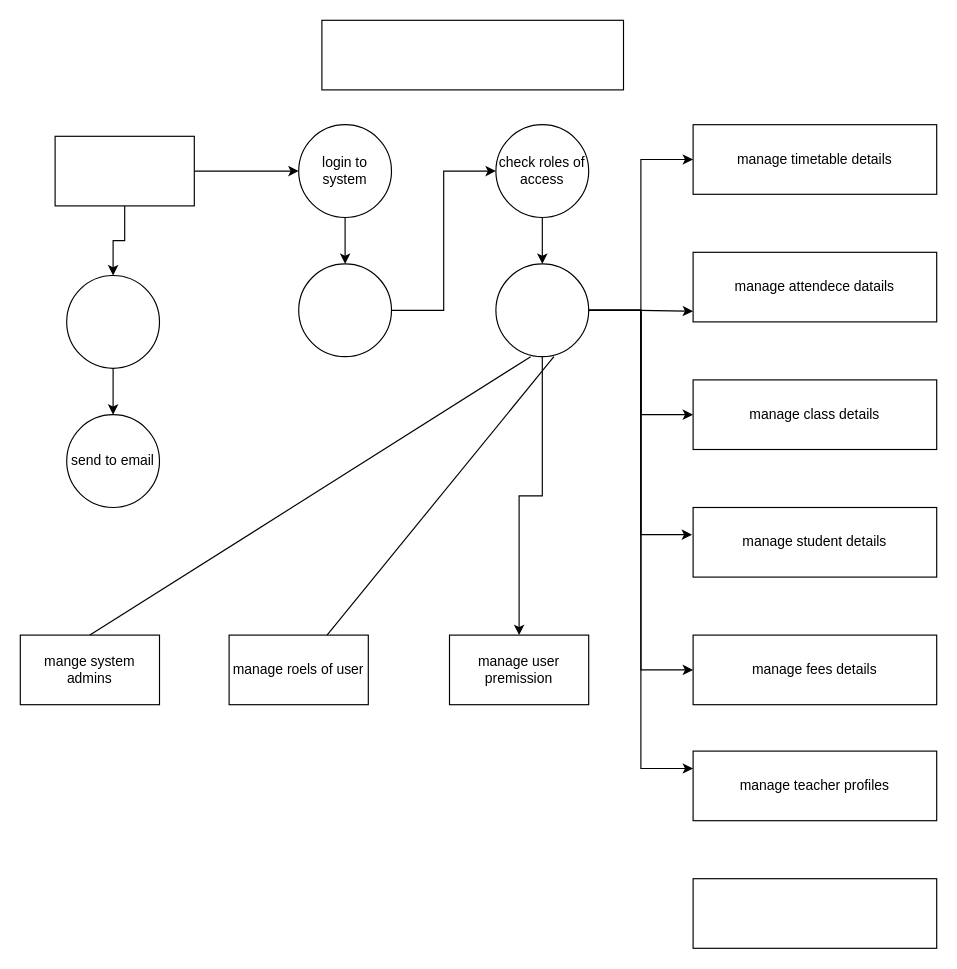
The diagram is 957 pixels wide and 969 high, and some of its shapes have lost their labels. Here are the shapes that lost their labels. From the top down, the centre of each, then its label:
At (x=472, y=54): "student information details".
At (x=124, y=170): "Admin".
At (x=113, y=321): "forget password".
At (x=345, y=310): "check credentioal".
At (x=542, y=310): "manage modules".
